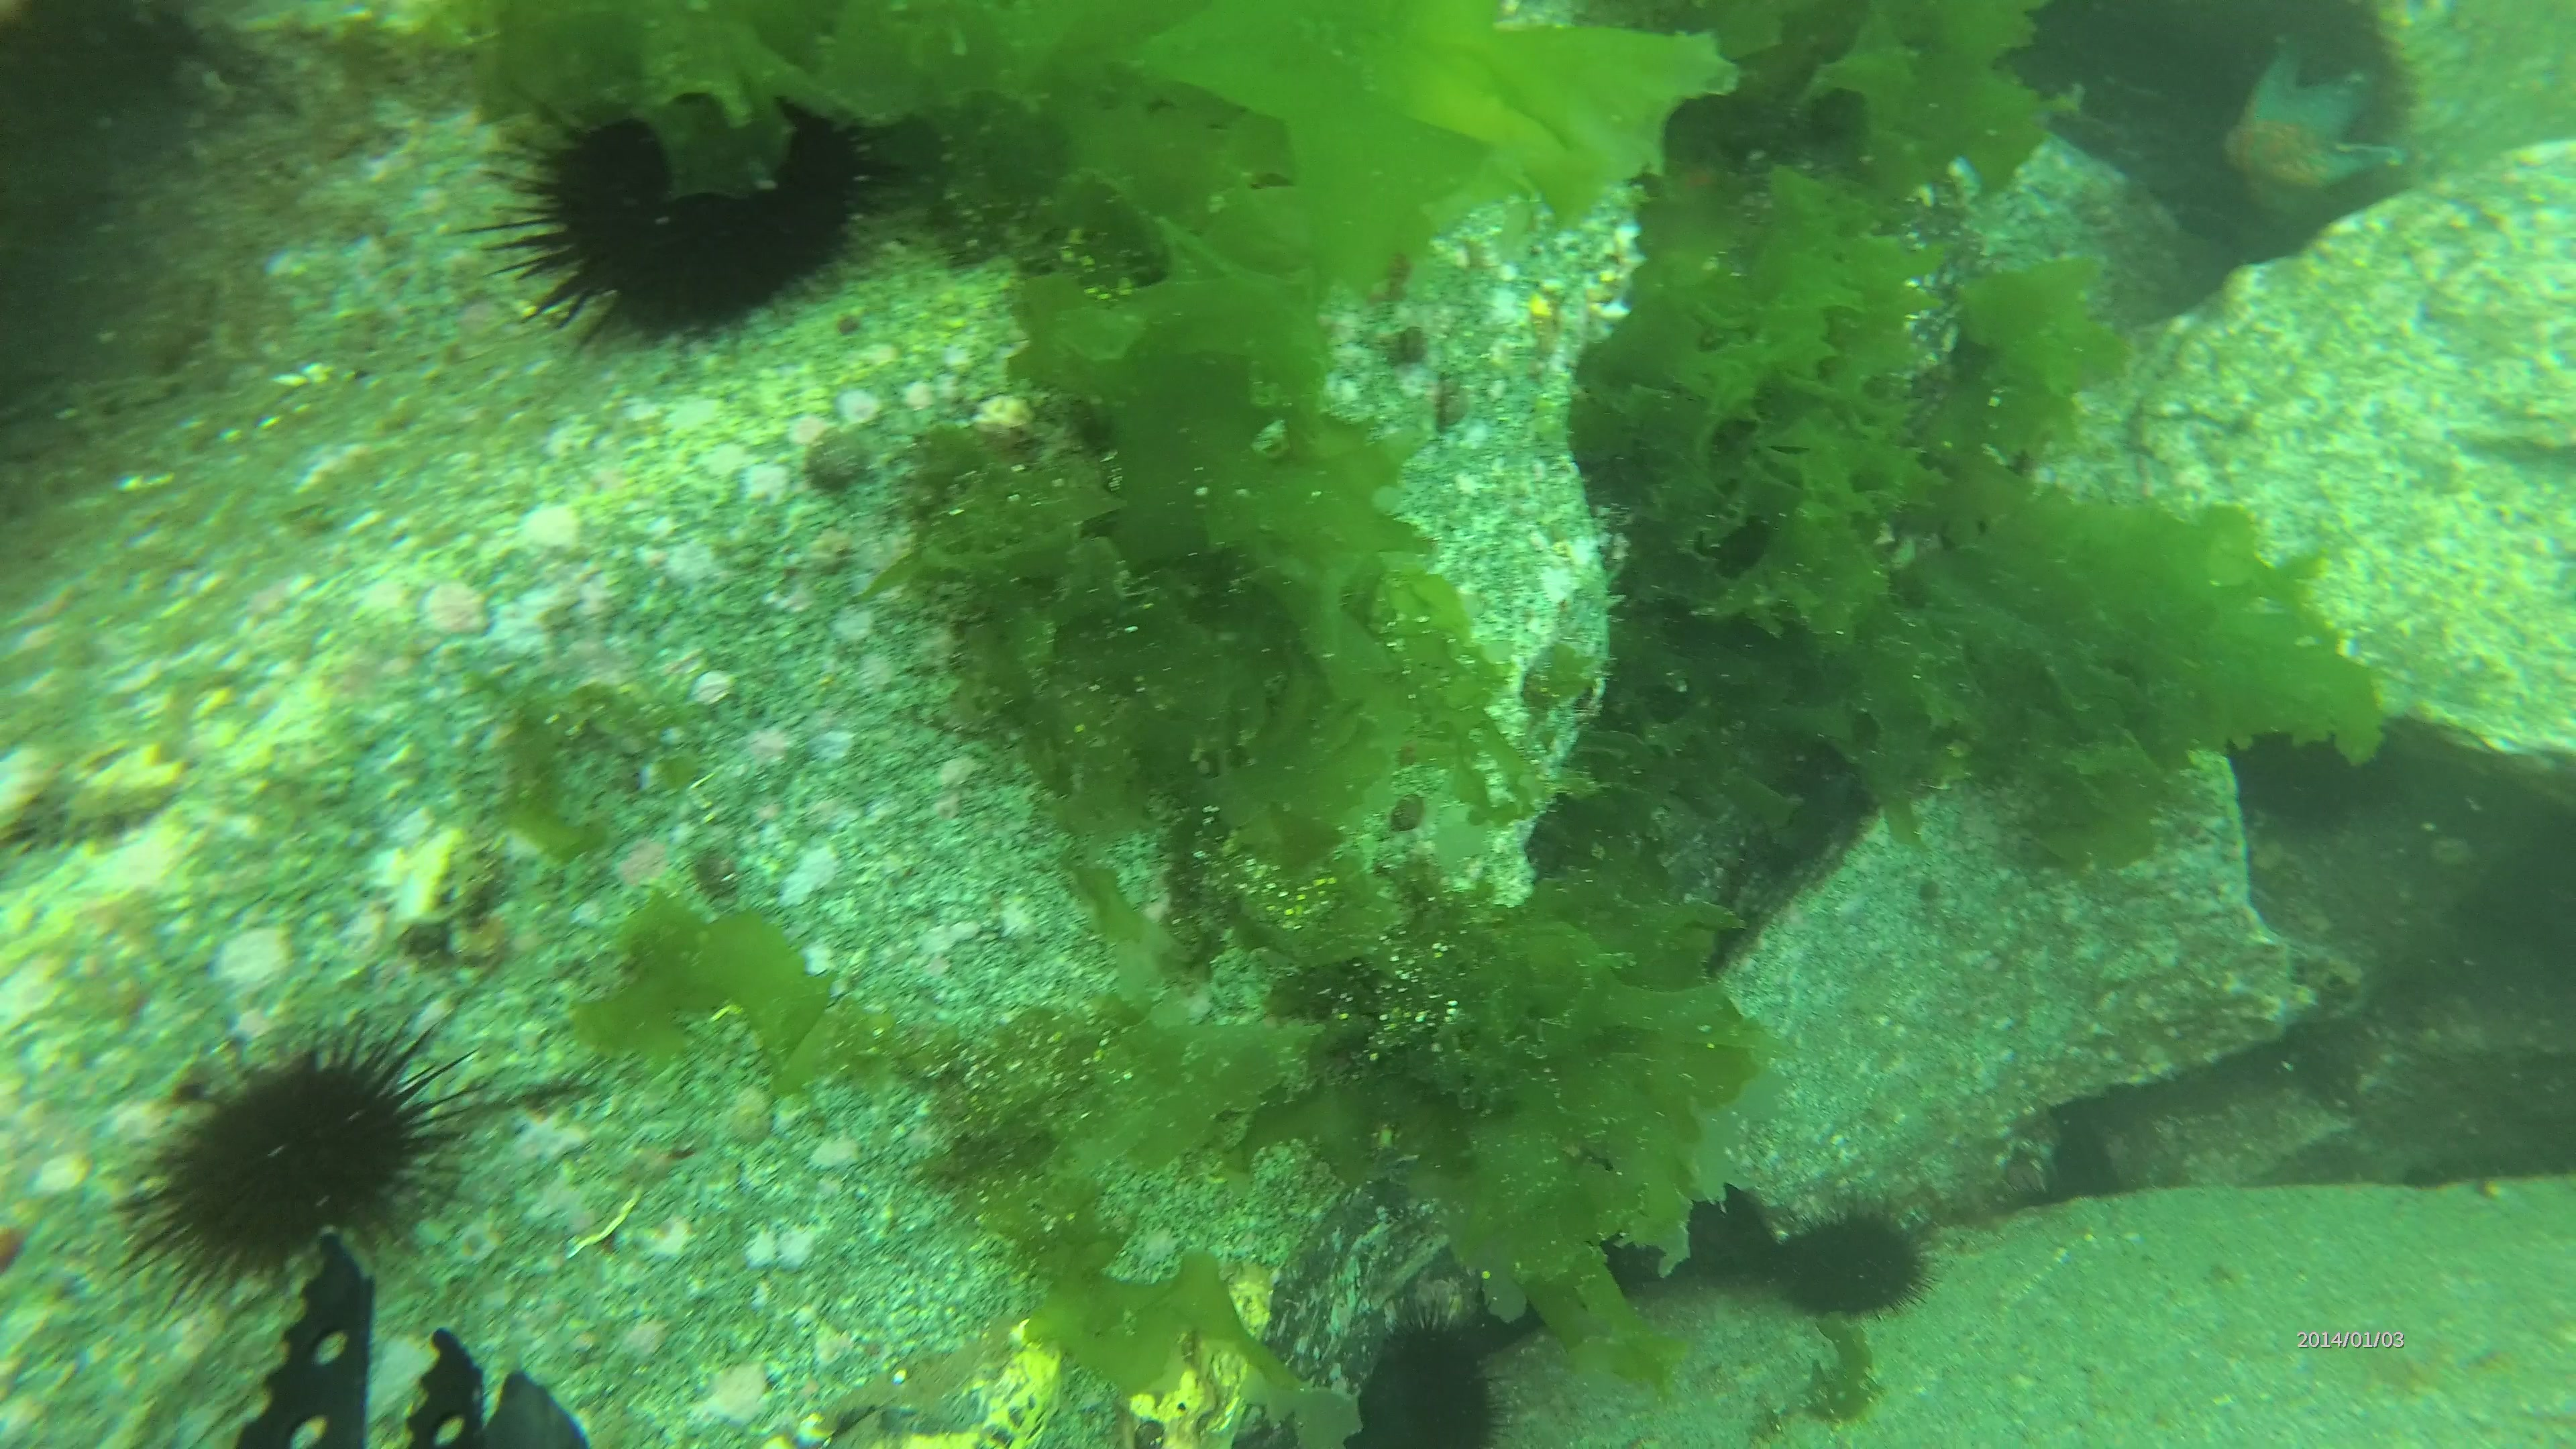echinus: (60, 989, 534, 1332), (433, 74, 952, 375), (1274, 1297, 1545, 1449), (1732, 1177, 1966, 1343)
starfish: (2204, 34, 2429, 258)
